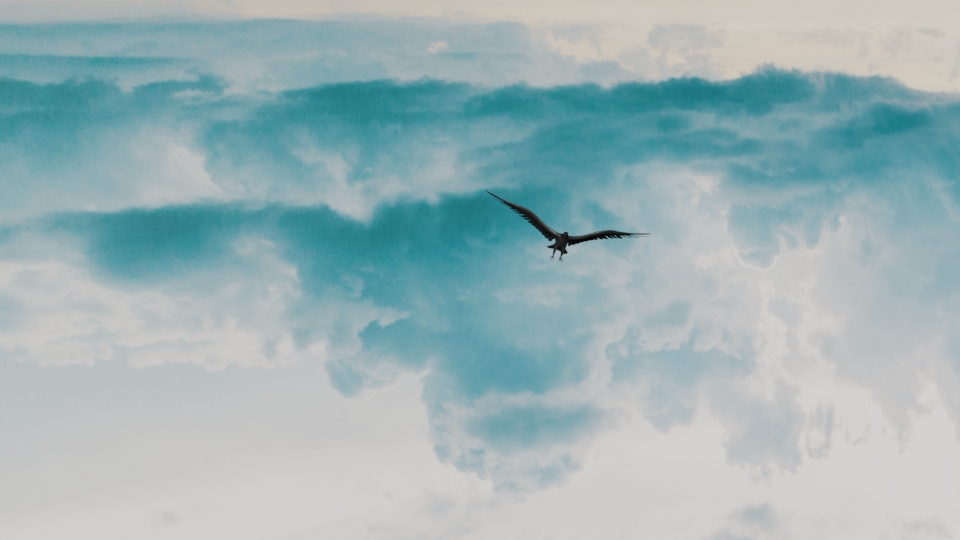bird: (486, 189, 648, 261)
